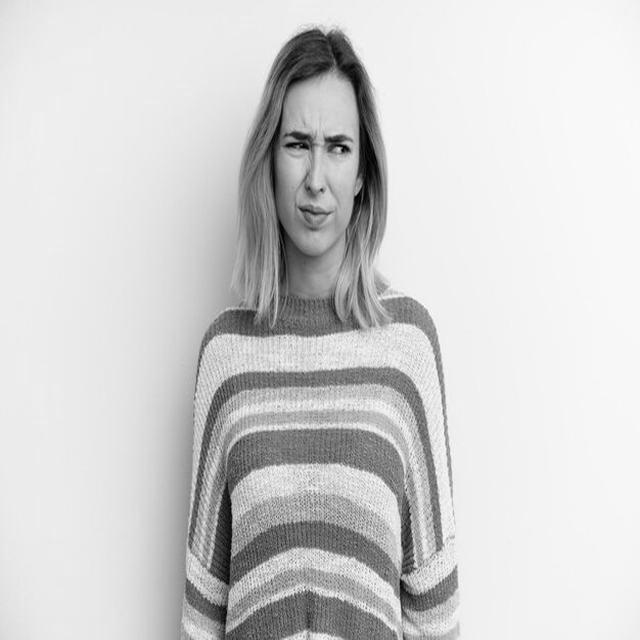Disgust: (275, 77, 359, 256)
